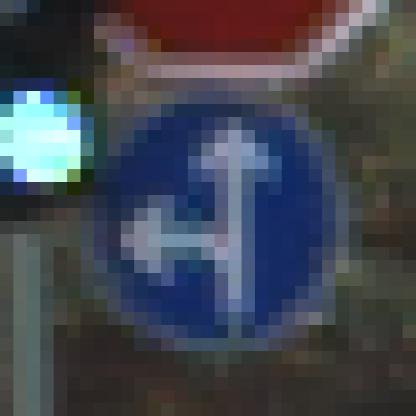Straight or Left: (68, 79, 350, 352)
